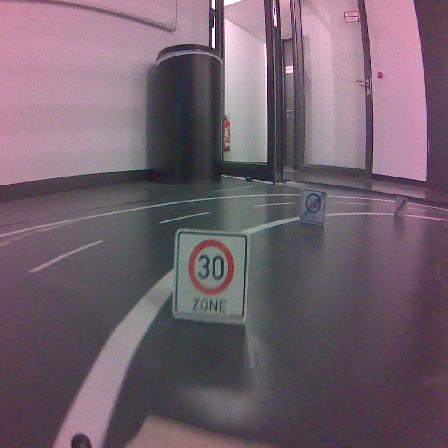30_ZONE_BEGIN: (172, 228, 250, 324)
